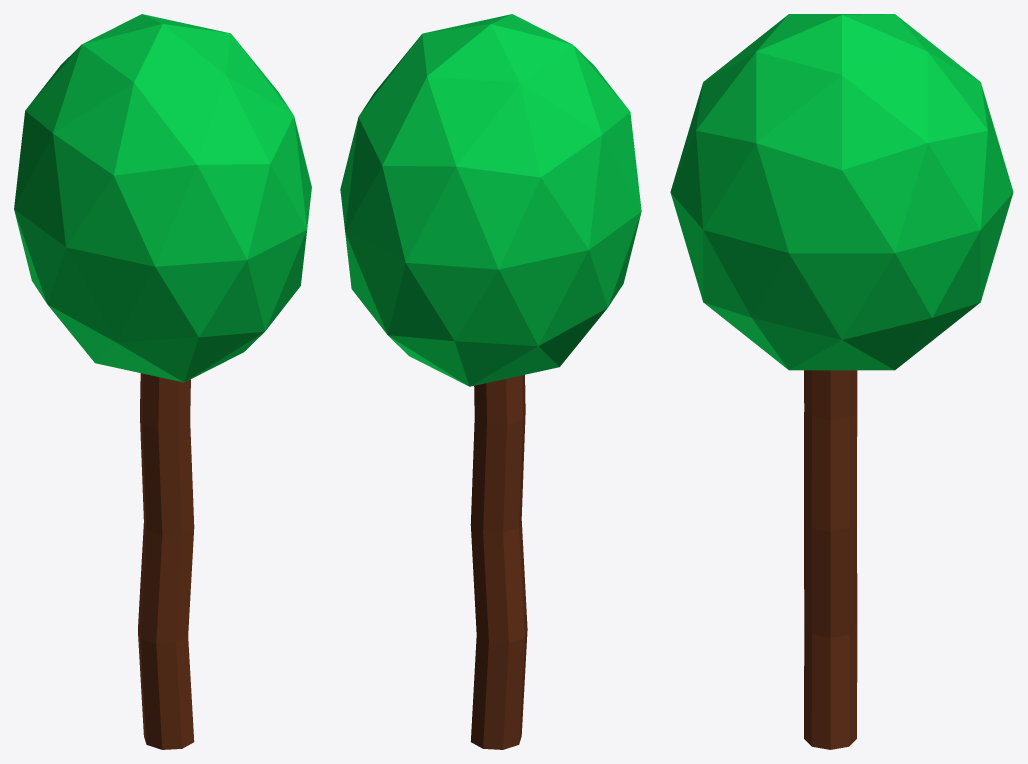
The model's file is Tree.fbx.
The picture shows the model from 3 angles, left to right: view 1: azimuth 30°, elevation 25°; view 2: azimuth 150°, elevation 25°; view 3: azimuth 270°, elevation 25°; orthographic projection.
Visible parts, largest first — view 1: Icosphere, Cylinder; view 2: Icosphere, Cylinder; view 3: Icosphere, Cylinder.
Part boxes in pixels (bbox=[...]): Icosphere: bbox=[14, 14, 311, 382]; Cylinder: bbox=[138, 373, 194, 749]; Icosphere: bbox=[340, 14, 641, 386]; Cylinder: bbox=[470, 375, 527, 749]; Icosphere: bbox=[670, 14, 1013, 370]; Cylinder: bbox=[804, 370, 857, 749].
Size of the model in its own units: 148 by 408 by 175.
